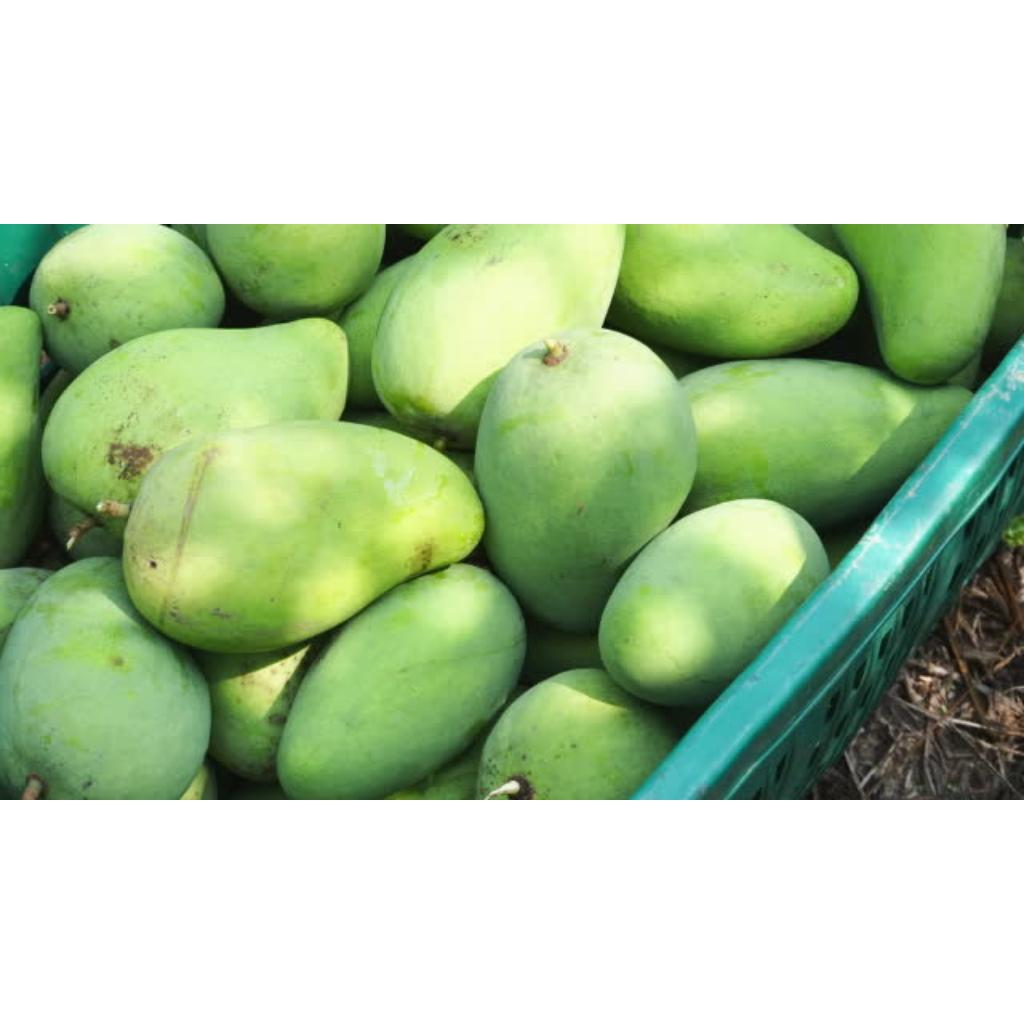mango: (122, 420, 484, 652), (474, 328, 698, 632), (44, 318, 348, 531), (278, 564, 526, 798), (372, 224, 623, 448), (0, 558, 210, 799), (680, 358, 972, 528), (598, 500, 830, 705), (609, 224, 858, 357), (834, 224, 1004, 383), (30, 224, 224, 359), (481, 670, 680, 800)
